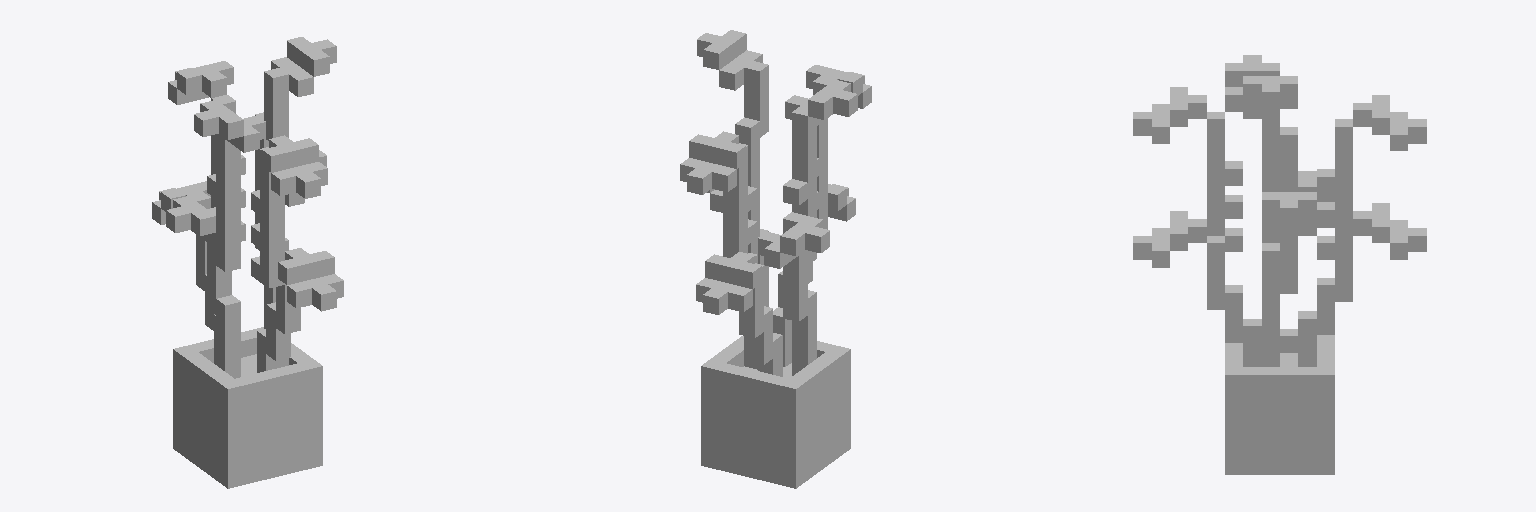
Rendered from House Interior Rooms - Free Sample-10.obj.
3 renders of one model, left to right at view 1: azimuth 30°, elevation 25°; view 2: azimuth 150°, elevation 25°; view 3: azimuth 270°, elevation 25°, orthographic.
Visible parts, largest first — view 1: object 1; view 2: object 1; view 3: object 1.
Boxes of the visible parts, <box> form: object 1: <box>152,37,343,488</box>; object 1: <box>680,30,871,488</box>; object 1: <box>1133,55,1426,474</box>.
Bounding box in the file's own units: 0.18 × 0.48 × 0.32.